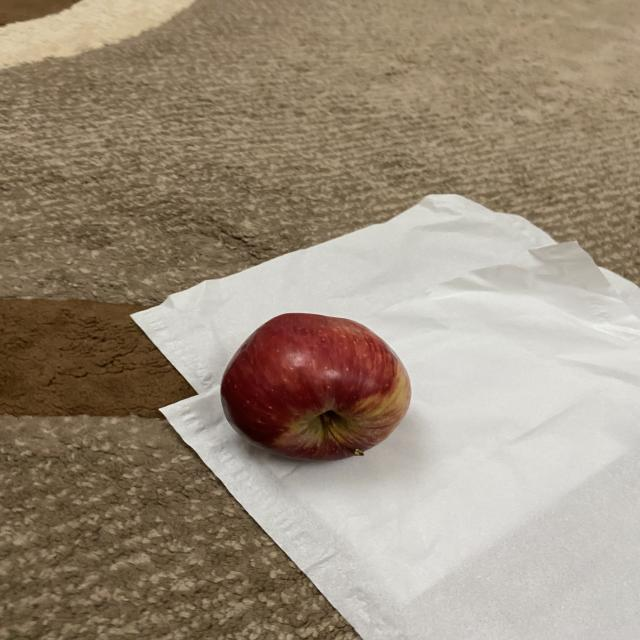apple: (221, 310, 415, 466)
